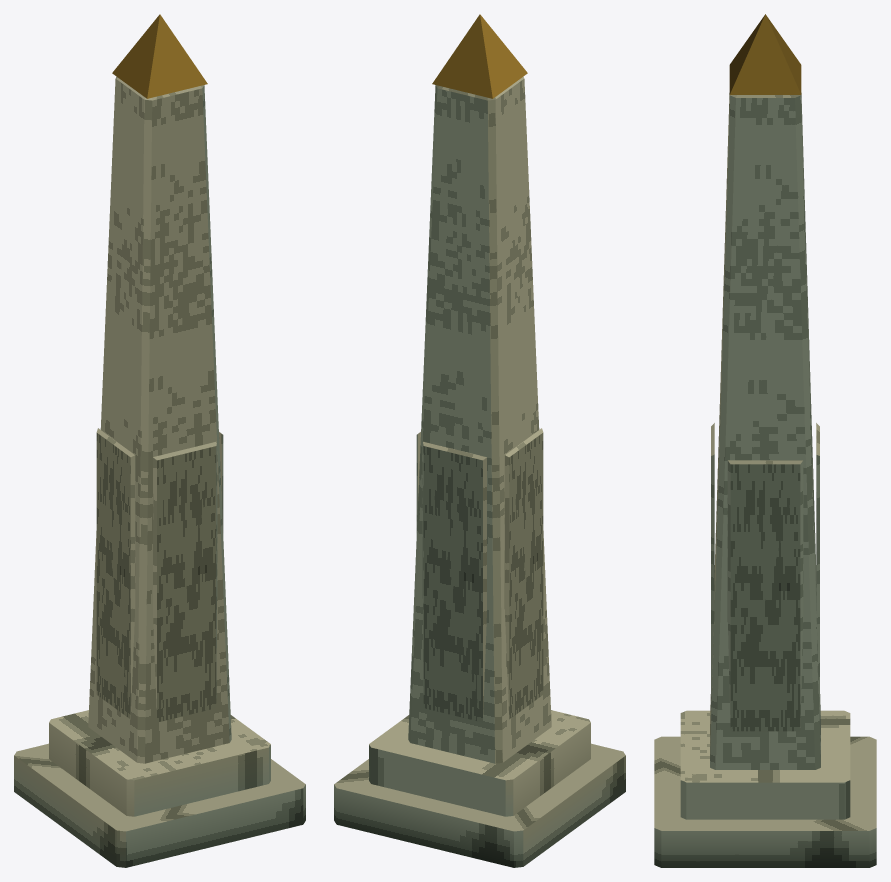
Rendered from ruin.obelisk.glb.
The picture shows the model from 3 angles, left to right: view 1: azimuth 30°, elevation 25°; view 2: azimuth 150°, elevation 25°; view 3: azimuth 270°, elevation 25°; orthographic projection.
Parts seen in each view (by area): view 1: kit_shaft, kit_base, kit_glyphs, kit_cap; view 2: kit_shaft, kit_base, kit_glyphs, kit_cap; view 3: kit_shaft, kit_base, kit_glyphs, kit_cap.
Boxes of the visible parts, x1,y1,x2,y2 form: kit_shaft: (88,77,231,763); kit_base: (14,710,305,867); kit_glyphs: (96,428,223,722); kit_cap: (112,14,207,98); kit_shaft: (408,77,551,763); kit_base: (334,710,625,867); kit_glyphs: (416,428,543,722); kit_cap: (432,14,527,98); kit_shaft: (710,93,820,769); kit_base: (654,710,876,867); kit_glyphs: (711,423,819,731); kit_cap: (729,14,801,94).
Bounding box in the file's own units: 1.9 × 7.6 × 1.9.
Materials: 4 (3 with a texture image).
